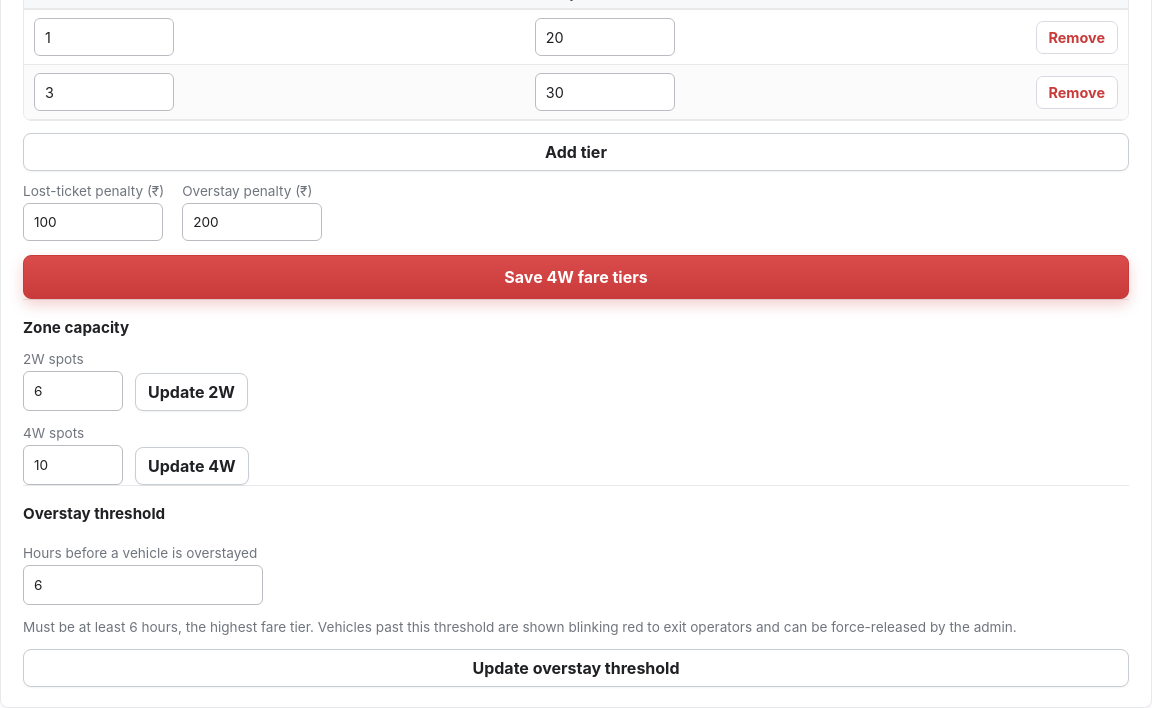
Test: S4-T4 — admin configuration panel (VPS-F-055, VPS-F-056) › updates the overstay threshold and rejects one below the highest tier
(page scrolled)
Replace the text in the number field labelled "Hours before a vehicle is overstayed" with "5" at (143, 585), box [23,565,263,605]
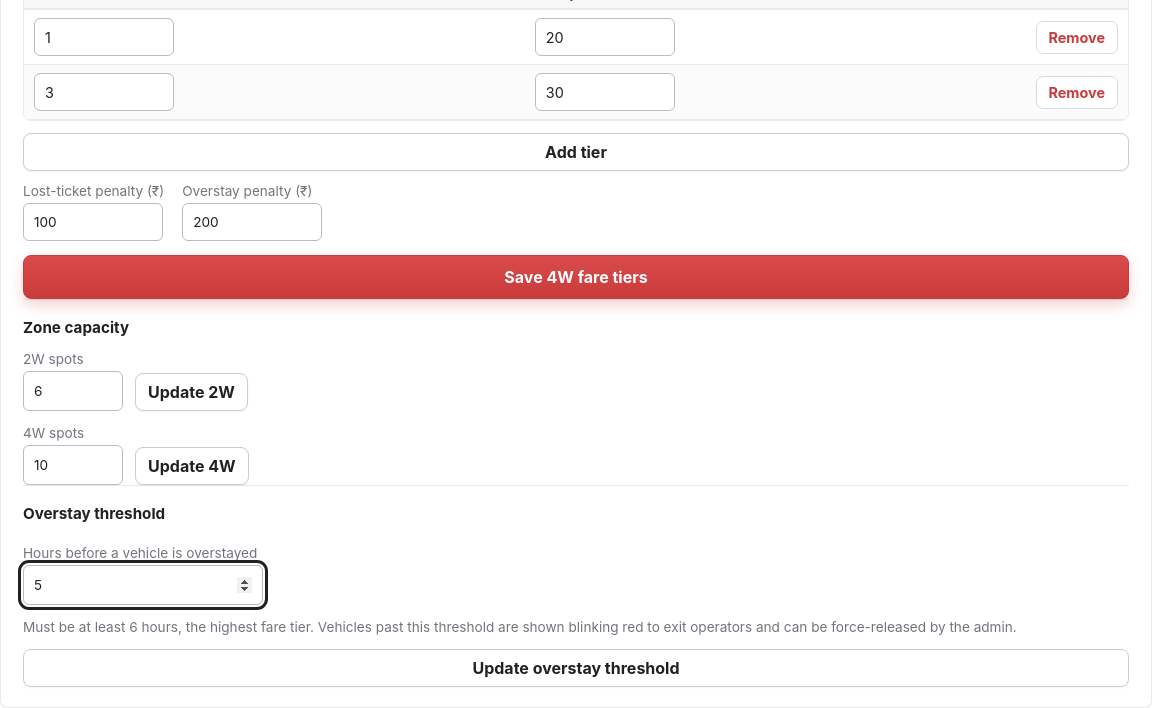
Click the button "Update overstay threshold".
click(576, 668)  # box [23,649,1129,687]
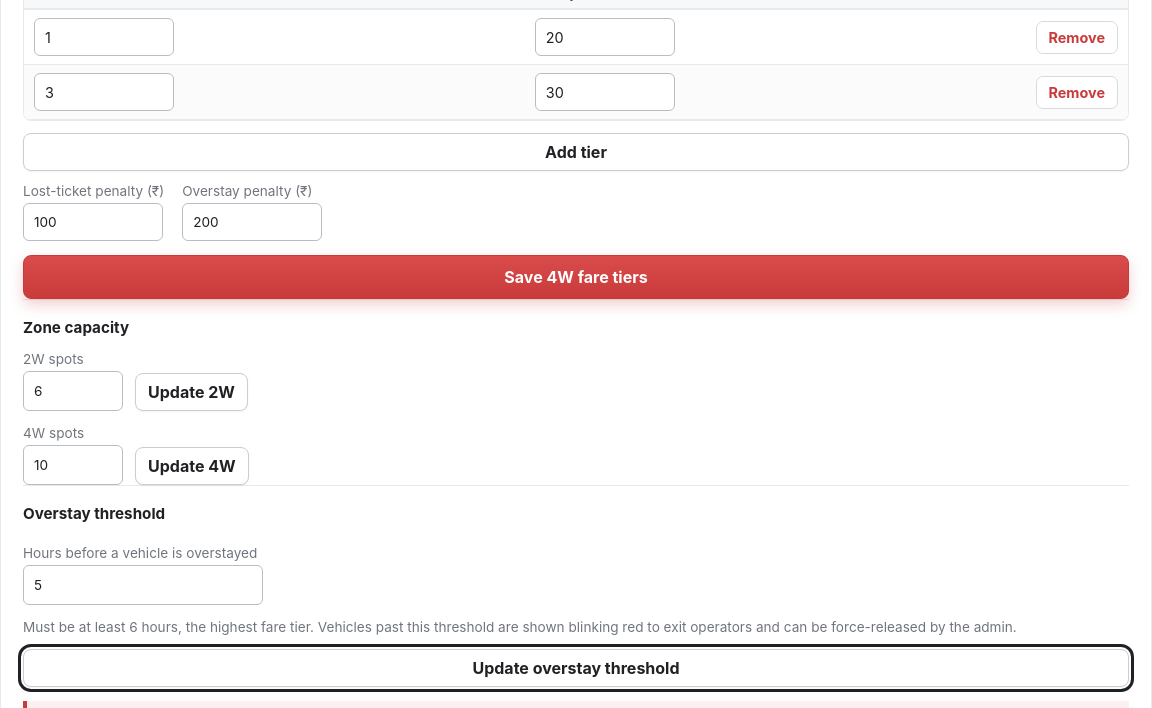
Replace the text in the number field labelled "Hours before a vehicle is overstayed" with "8" at (143, 585), box [23,565,263,605]
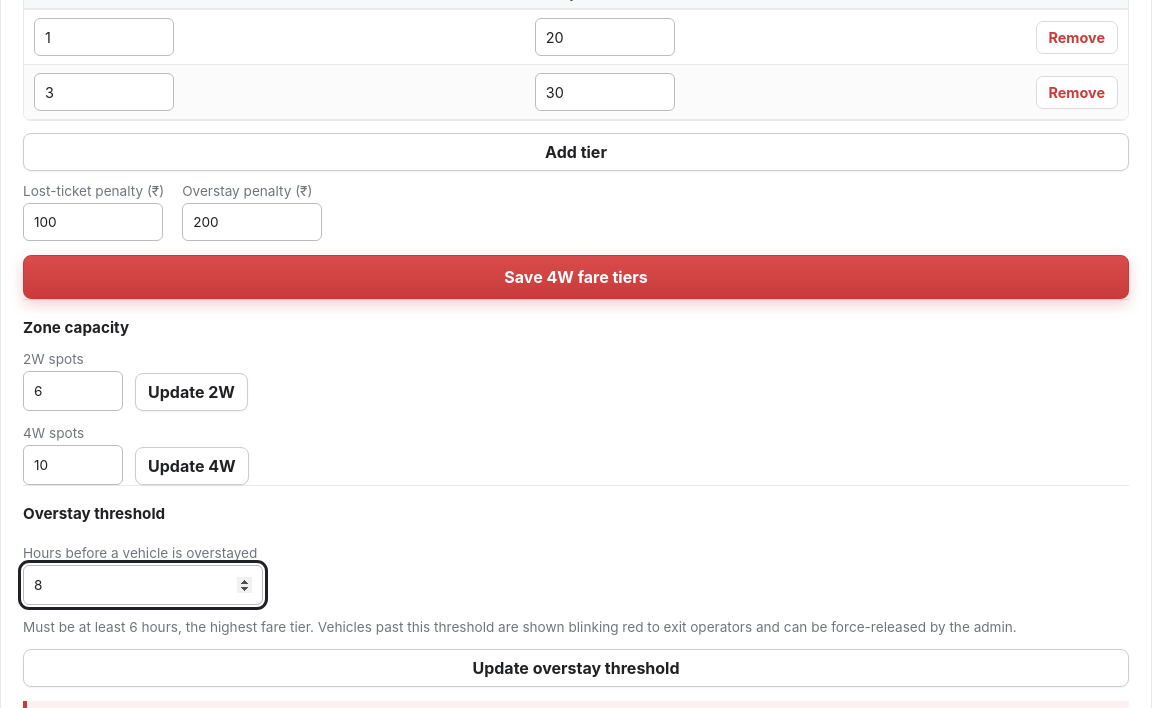
Click the button "Update overstay threshold".
click(576, 668)  # box [23,649,1129,687]
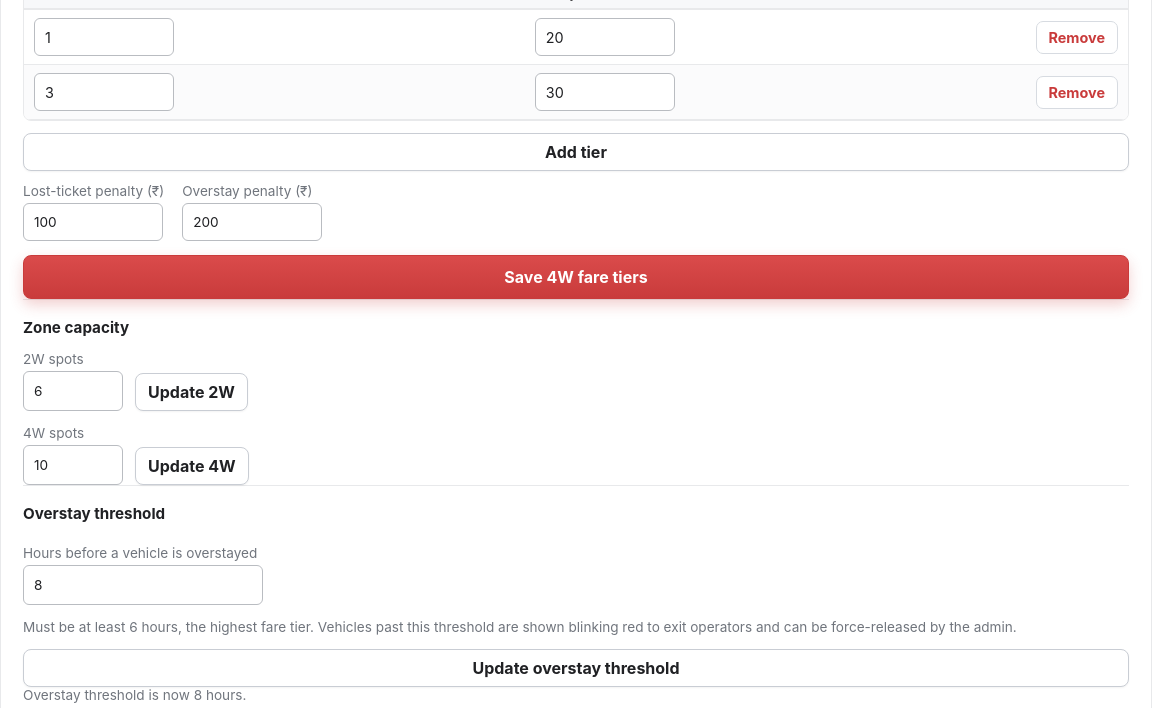
Check: the text "Overstay threshold is now 8 hours." is shown, box [23,687,246,703]
